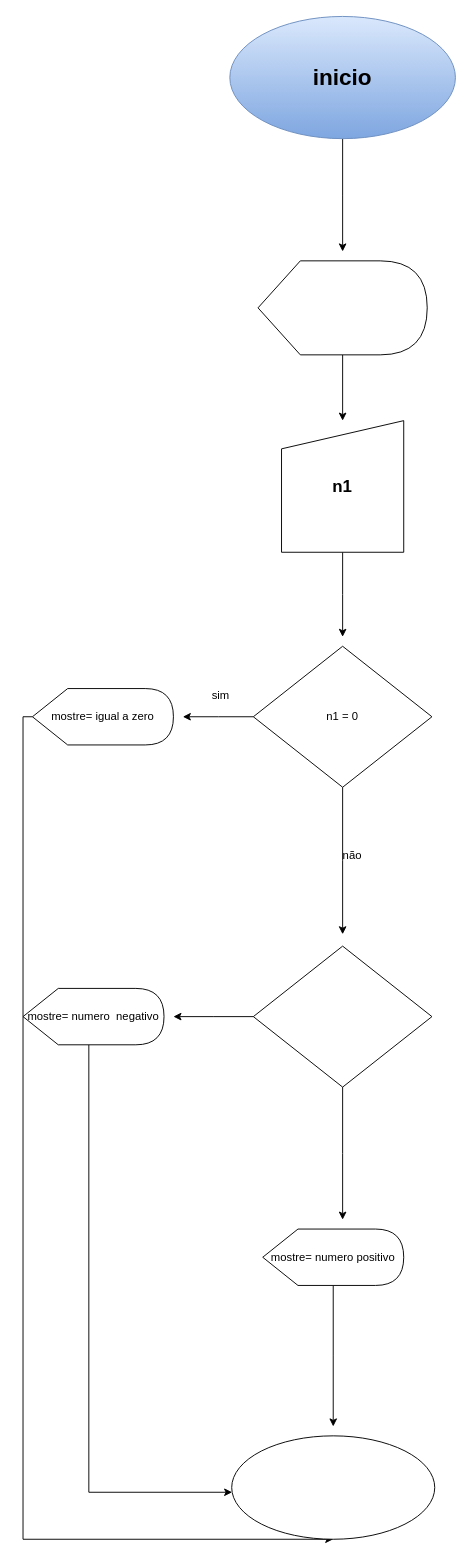
This 472x1563 diagram has some shape labels left out. Here are the shapes that lost their labels. From the top down, the box of each, then its label:
(257, 260, 427, 355): digite seu numero
(252, 945, 432, 1087): n1 <0
(231, 1435, 435, 1539): fim
